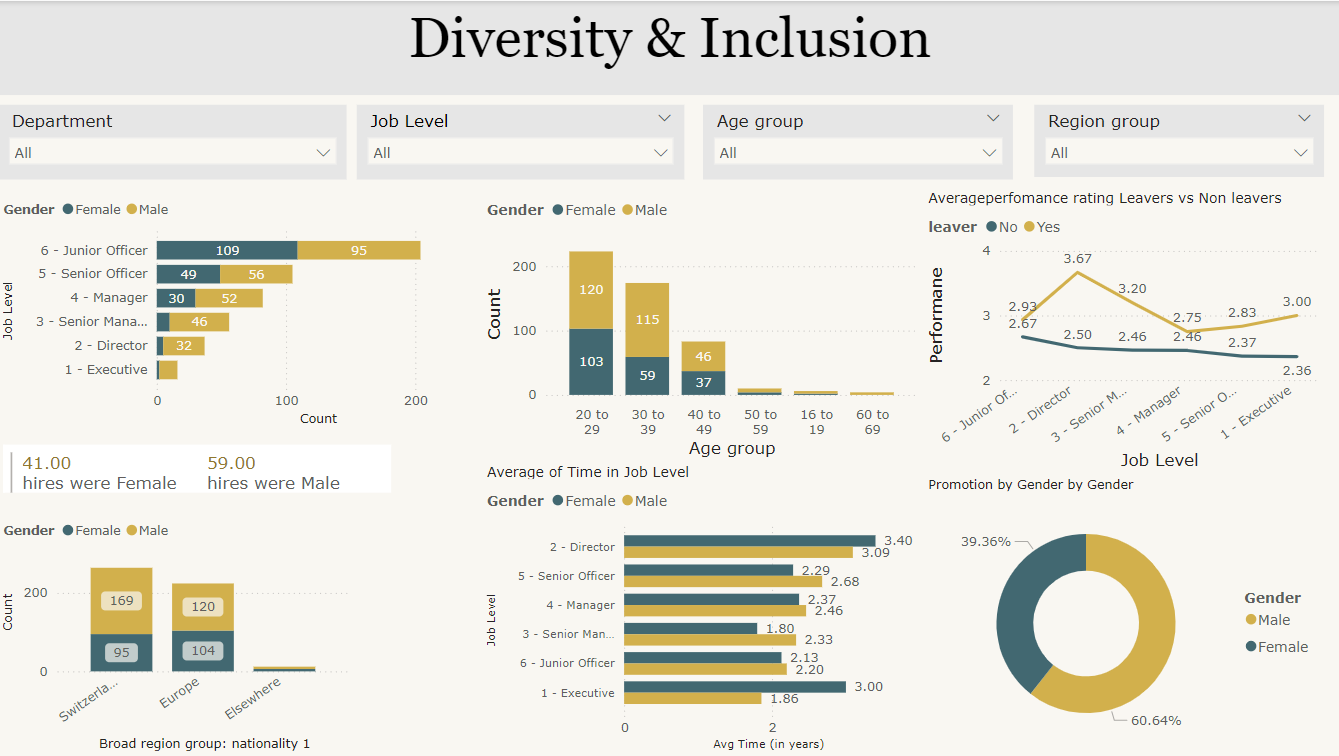

The dashboard page shown, as its layout file describes it:
{"tool":"powerbi","page":{"name":"Page 2","canvas":[1280,720],"ordinal":0},"visuals":[{"type":"textbox","box":[0,0,1279.8,89.3],"z":1},{"type":"slicer","fields":{"Values":["Pharma Group AG.Last Department in FY20"]},"box":[0,98.8,332.1,71.4],"z":2},{"type":"slicer","fields":{"Values":["Pharma Group AG.Job Level after FY20 promotions"]},"box":[341.7,98.8,311.9,71.4],"z":3},{"type":"slicer","fields":{"Values":["Pharma Group AG.Age group"]},"box":[671.4,98.8,295.2,71.4],"z":4},{"type":"slicer","fields":{"Values":["Pharma Group AG.Broad region group: nationality 1"]},"box":[986.9,98.8,276.2,69],"z":5},{"type":"barChart","fields":{"Category":["Pharma Group AG.Job Level after FY20 promotions"],"Y":["Pharma Group AG.Employee ID"],"Series":["Pharma Group AG.Gender"]},"box":[0,178.6,476.2,231],"z":6},{"type":"multiRowCard","fields":{"Values":["Pharma Group AG.Percentage of Female","Pharma Group AG.Percentge of Male"]},"box":[0,417.9,379.8,66.7],"z":7},{"type":"lineStackedColumnComboChart","fields":{"Y":["Pharma Group AG.Employee ID"],"Series":["Pharma Group AG.Gender"],"Category":["Pharma Group AG.Broad region group: nationality 1"]},"box":[0,484.5,341.7,234.5],"z":8},{"type":"columnChart","fields":{"Category":["Pharma Group AG.Age group"],"Y":["Pharma Group AG.Promotion in FY20?"],"Series":["Pharma Group AG.Gender"]},"box":[460.7,178.6,420.2,260.7],"z":9},{"type":"lineChart","title":"Averageperfomance rating Leavers vs Non leavers","fields":{"Category":["Pharma Group AG.Job Level after FY20 promotions"],"Y":["Pharma Group AG.FY19 Performance Rating"],"Series":["Pharma Group AG.FY20 leaver?"]},"box":[881,178.6,382.1,272.6],"z":10},{"type":"clusteredBarChart","title":"Average of Time in Job Level","fields":{"Category":["Pharma Group AG.Job Level after FY20 promotions"],"Y":["Pharma Group AG.Time in Job Level @01.07.2020"],"Series":["Pharma Group AG.Gender"]},"box":[460.7,439.3,420.2,279.8],"z":11},{"type":"donutChart","fields":{"Y":["Pharma Group AG.no.of.promoted"],"Category":["Pharma Group AG.Gender"]},"box":[881,452,382,267],"z":12}]}

Visuals, with their boxes in screenshot pixels (x1, y1, x2, y2), scaled from the page's 1280x720 canvas onto the 1339x756 screenshot:
textbox: 0 0 1338 94
slicer - Pharma Group AG.Last Department in FY20: 0 104 347 179
slicer - Pharma Group AG.Job Level after FY20 promotions: 357 104 684 179
slicer - Pharma Group AG.Age group: 702 104 1011 179
slicer - Pharma Group AG.Broad region group: nationality 1: 1032 104 1321 176
barChart - Pharma Group AG.Job Level after FY20 promotions x Pharma Group AG.Employee ID: 0 188 498 430
multiRowCard - Pharma Group AG.Percentage of Female x Pharma Group AG.Percentge of Male: 0 439 397 509
lineStackedColumnComboChart - Pharma Group AG.Employee ID x Pharma Group AG.Gender: 0 509 357 755
columnChart - Pharma Group AG.Age group x Pharma Group AG.Promotion in FY20?: 482 188 922 461
"Averageperfomance rating Leavers vs Non leavers" lineChart: 922 188 1321 474
"Average of Time in Job Level" clusteredBarChart: 482 461 922 755
donutChart - Pharma Group AG.no.of.promoted x Pharma Group AG.Gender: 922 475 1321 755
